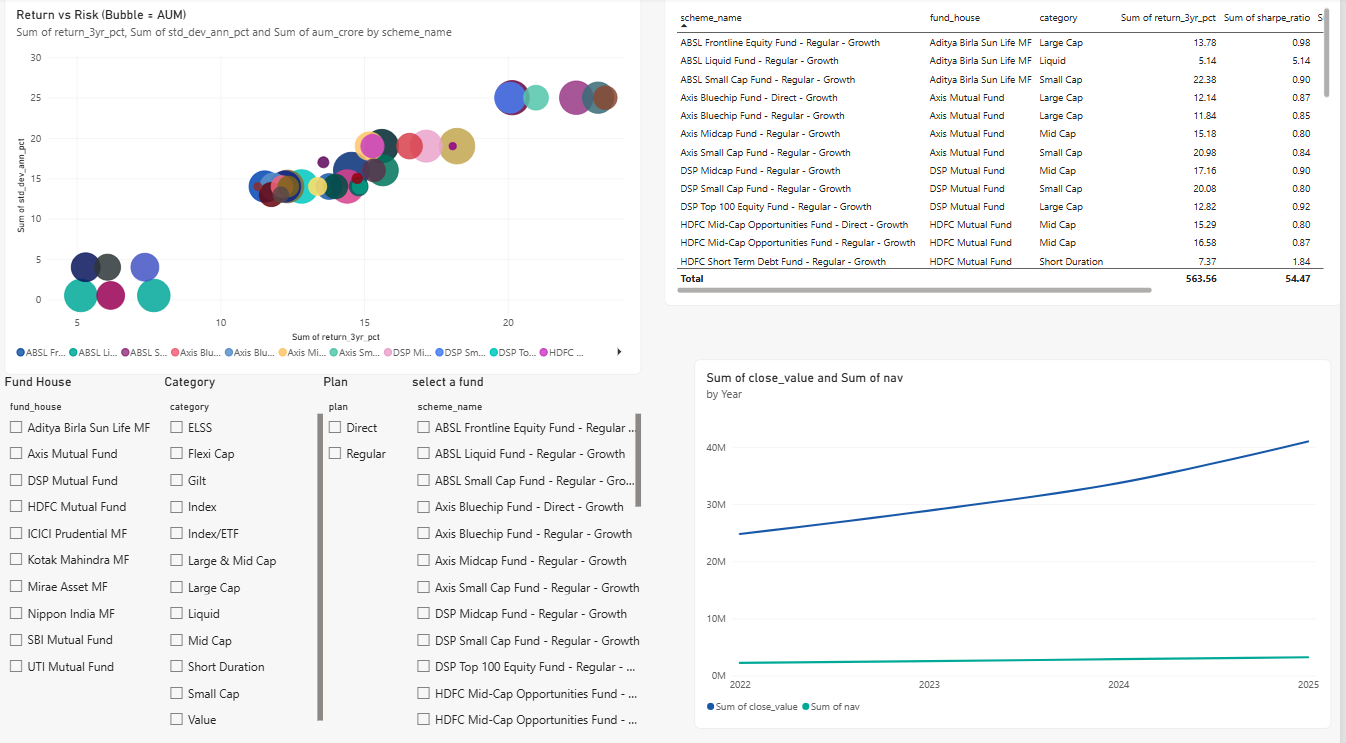

The page's visual inventory and layout, read from the dashboard file:
{"tool":"powerbi","page":{"name":"Fund Performance","canvas":[1920,1080],"ordinal":1},"visuals":[{"type":"scatterChart","title":"Return vs Risk (Bubble = AUM)","fields":{"Series":["07_scheme_performance.scheme_name"],"Size":["Sum(07_scheme_performance.aum_crore)"],"X":["Sum(07_scheme_performance.return_3yr_pct)"],"Y":["Sum(07_scheme_performance.std_dev_ann_pct)"]},"box":[10.3,0,909.8,539.3],"z":0},{"type":"tableEx","fields":{"Values":["07_scheme_performance.scheme_name","07_scheme_performance.fund_house","07_scheme_performance.category","Sum(07_scheme_performance.return_3yr_pct)","Sum(07_scheme_performance.sharpe_ratio)","Sum(07_scheme_performance.expense_ratio_pct)","Sum(07_scheme_performance.morningstar_rating)"]},"box":[953,0,967.4,440.5],"z":1000},{"type":"lineChart","fields":{"Category":["DateTable.Date.Variation.Date Hierarchy.Year","DateTable.Date.Variation.Date Hierarchy.Quarter","DateTable.Date.Variation.Date Hierarchy.Month","DateTable.Date.Variation.Date Hierarchy.Day"],"Y":["Sum(10_benchmark_indices.close_value)","Sum(02_nav_history.nav)"]},"box":[996.2,518.7,909.8,526.9],"z":2000},{"type":"slicer","title":"Fund House","fields":{"Values":["07_scheme_performance.fund_house"]},"box":[10.3,539.3,228.5,506.3],"z":3000},{"type":"slicer","title":"Category","fields":{"Values":["07_scheme_performance.category"]},"box":[238.8,539.3,226.4,506.3],"z":4000},{"type":"slicer","title":"Plan","fields":{"Values":["07_scheme_performance.plan"]},"box":[465.2,539.3,127.6,506.3],"z":5000},{"type":"slicer","title":"select a fund","fields":{"Values":["07_scheme_performance.scheme_name"]},"box":[593,539,327,506],"z":5001}]}

Visuals, with their boxes in screenshot pixels (x1, y1, x2, y2), scaled from the page's 1920x1080 canvas onto the 1346x743 screenshot:
"Return vs Risk (Bubble = AUM)" scatterChart: bbox=(7, 0, 645, 371)
tableEx - 07_scheme_performance.scheme_name x 07_scheme_performance.fund_house: bbox=(668, 0, 1345, 303)
lineChart - DateTable.Date.Variation.Date Hierarchy.Year x DateTable.Date.Variation.Date Hierarchy.Quarter: bbox=(698, 357, 1336, 719)
"Fund House" slicer: bbox=(7, 371, 167, 719)
"Category" slicer: bbox=(167, 371, 326, 719)
"Plan" slicer: bbox=(326, 371, 416, 719)
"select a fund" slicer: bbox=(416, 371, 645, 719)
